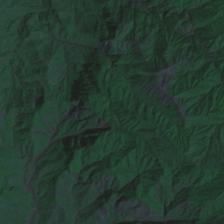landslides: (108, 194, 196, 223), (62, 101, 96, 132), (77, 115, 113, 135), (94, 4, 116, 36), (83, 34, 116, 55), (128, 75, 159, 96), (77, 68, 101, 93), (116, 27, 139, 53), (61, 144, 77, 163), (174, 60, 198, 72), (67, 134, 102, 142), (84, 58, 100, 74), (86, 11, 98, 31), (66, 168, 83, 182), (70, 79, 80, 101), (46, 99, 61, 113), (84, 168, 99, 182), (35, 125, 49, 139), (72, 137, 88, 149), (51, 46, 63, 61), (37, 142, 52, 153), (131, 46, 141, 61), (16, 107, 29, 118), (47, 123, 58, 136), (22, 122, 33, 133), (105, 57, 116, 68)
